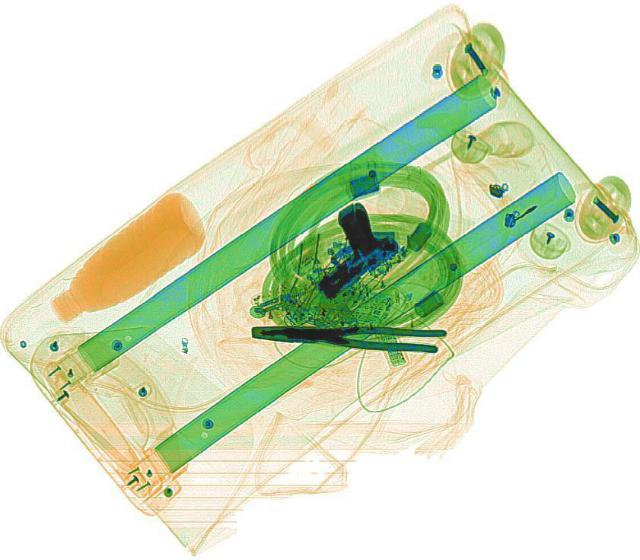Gun: (277, 198, 407, 298)
Pliers: (248, 317, 444, 350)
